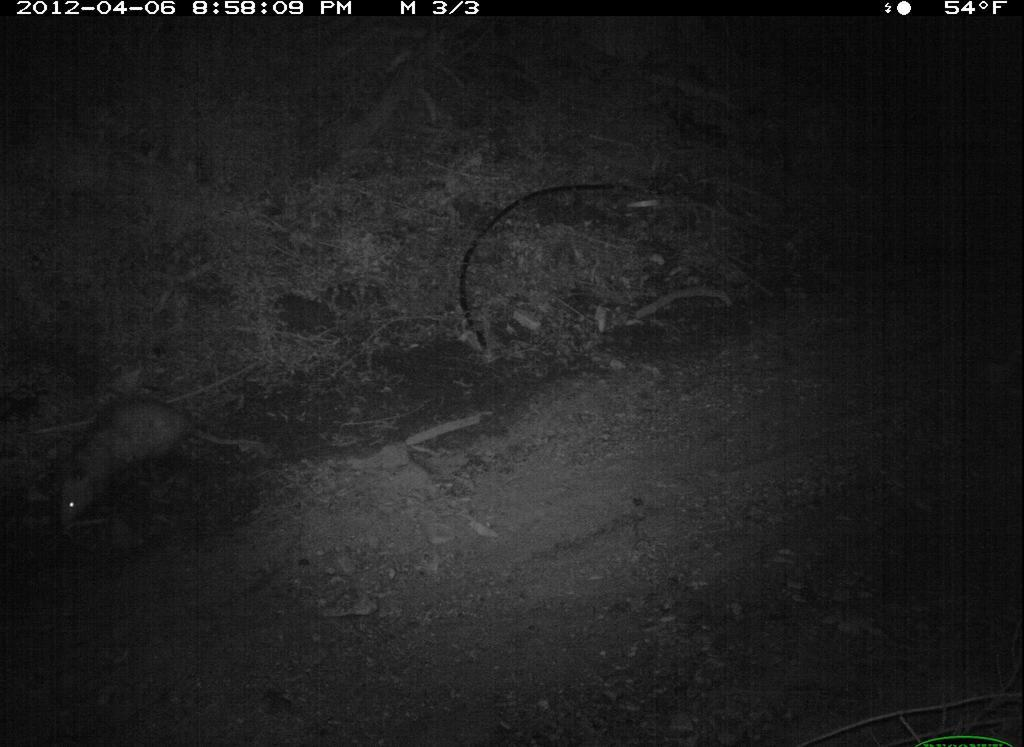opossum: (34, 377, 277, 541)
